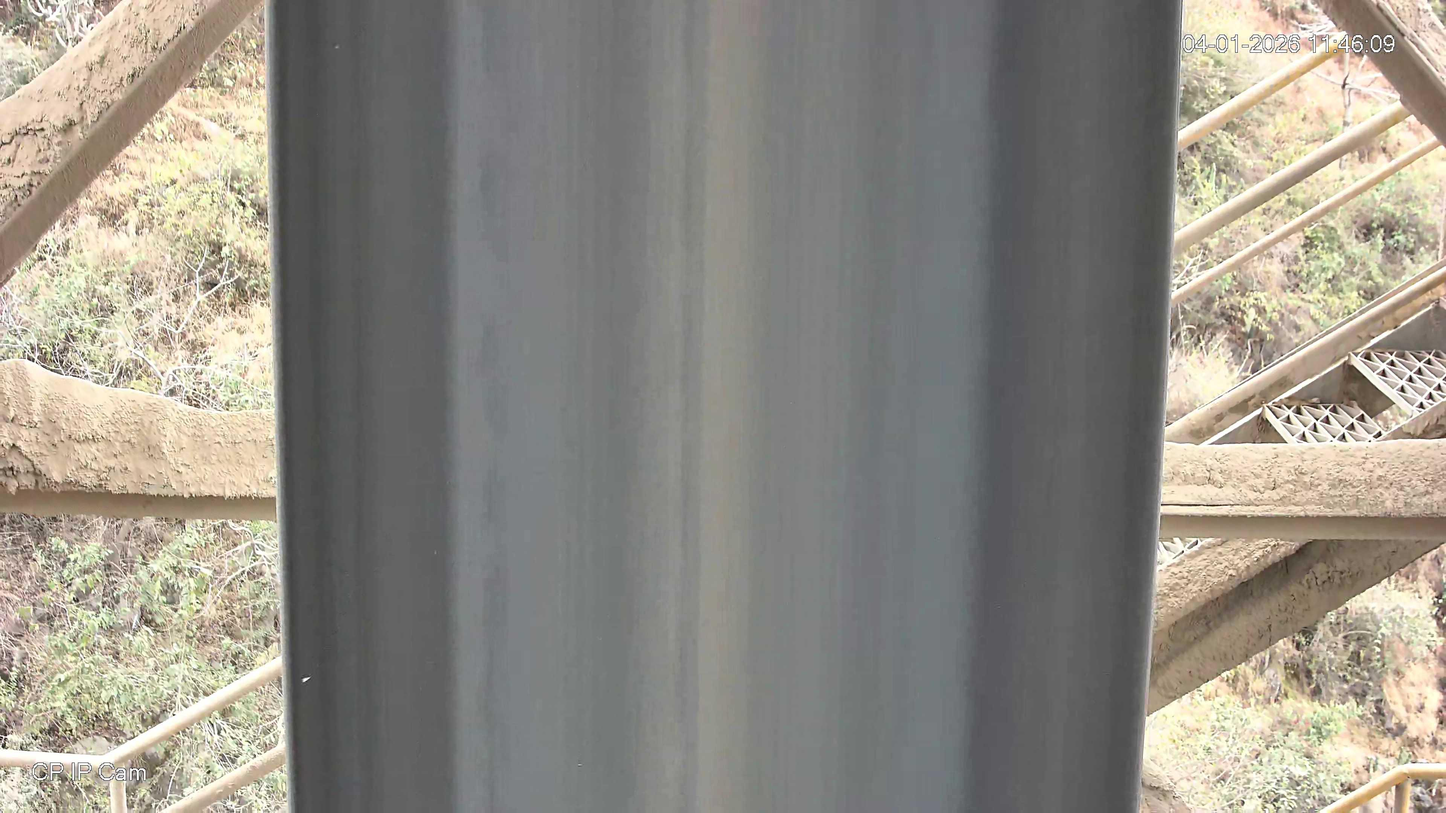belt_roi: (269, 0, 1185, 813)
